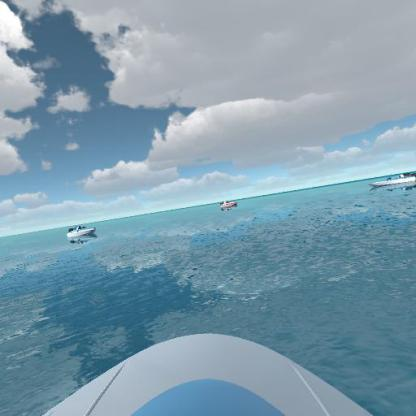usv1: (366, 169, 415, 193), (63, 223, 103, 243)
usv3: (220, 197, 239, 213)
